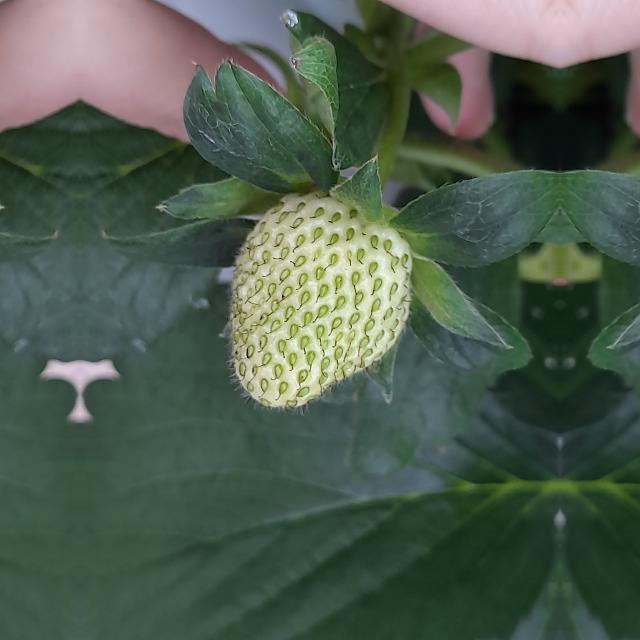Health_25: (224, 190, 416, 416)
